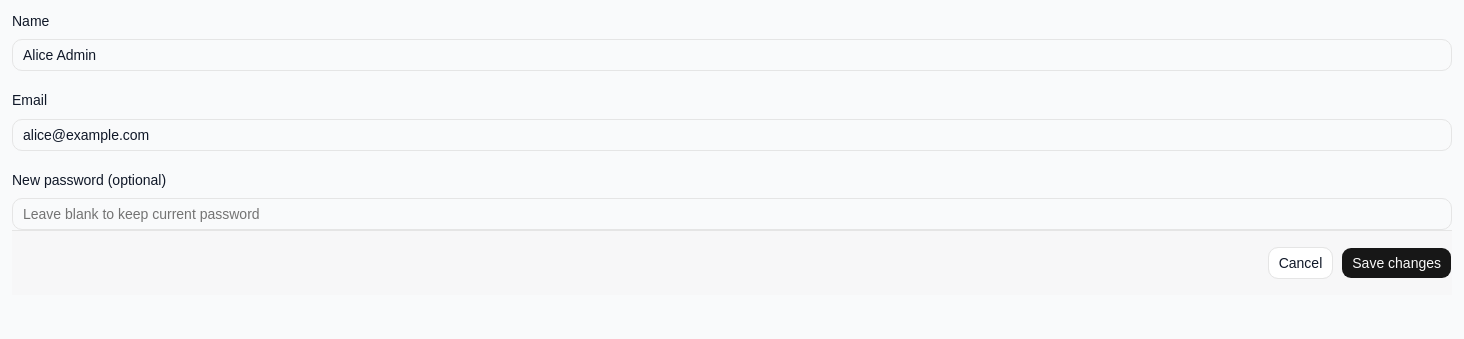
Scenario: UserForm — edit mode › falls back to 'Failed to save changes' on a generic error
Replace the text in the field labelled "Name" with "Alice Updated" at (732, 55), box [12,39,1452,71]
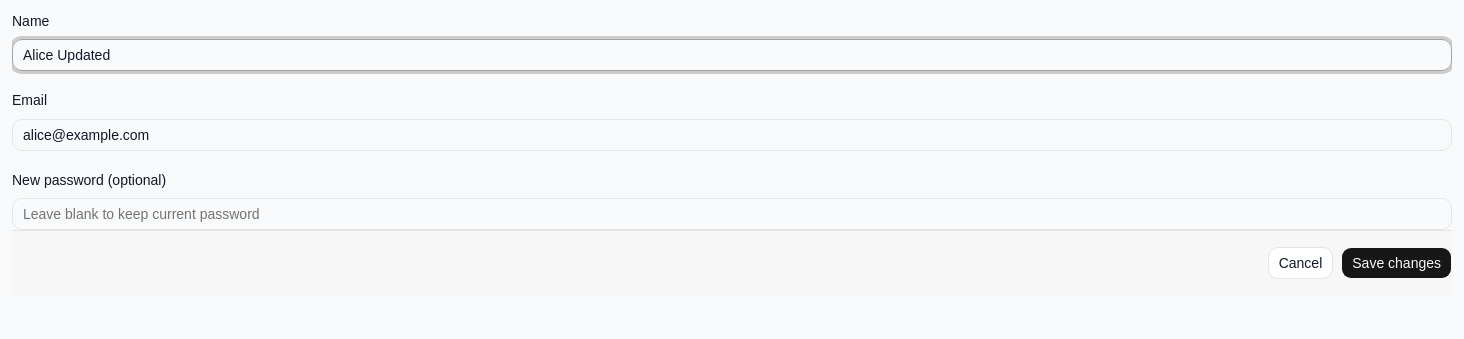
Click the button "Save changes" at (1397, 263), box [1341,247,1452,279]
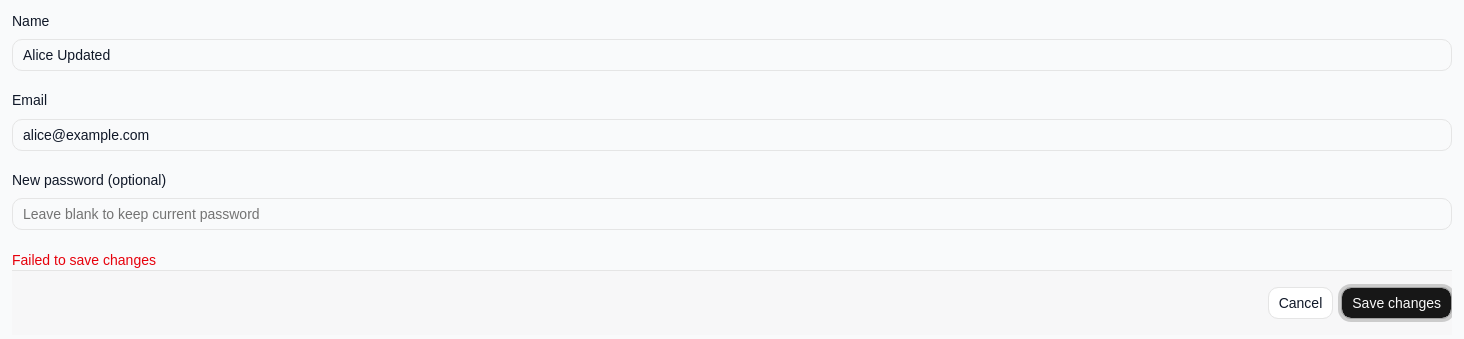
Expected: the text "Failed to save changes" is shown, [12,252,156,268]
